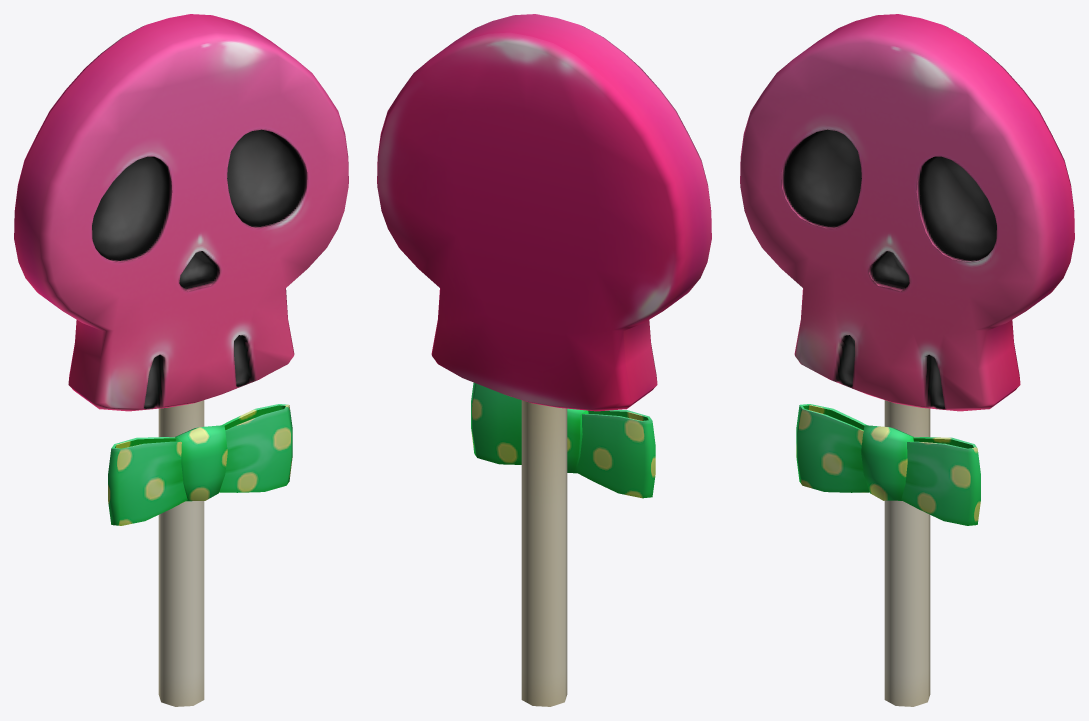
Rendered from HalloweenItem_Candy01.fbx.
3 views of the same model, side by side, from view 1: azimuth 30°, elevation 25°; view 2: azimuth 150°, elevation 25°; view 3: azimuth 330°, elevation 25° (orthographic).
Visible parts, largest first — view 1: M_candy01, M_ribbon01; view 2: M_candy01, M_ribbon01; view 3: M_candy01, M_ribbon01.
Part boxes in pixels (bbox=[...]): M_candy01: bbox=[14, 14, 348, 706]; M_ribbon01: bbox=[108, 404, 292, 525]; M_candy01: bbox=[377, 14, 711, 706]; M_ribbon01: bbox=[471, 382, 655, 498]; M_candy01: bbox=[740, 14, 1074, 706]; M_ribbon01: bbox=[796, 404, 980, 525].
Bounding box in the file's own units: 6.86 × 14.19 × 1.71.
